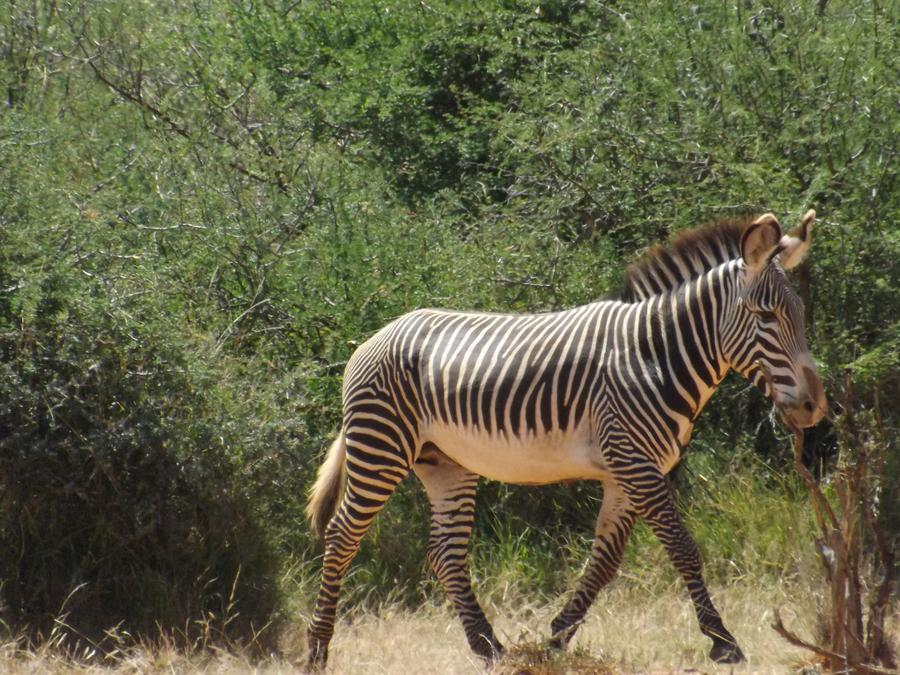zebra_grevys: (338, 285, 670, 472)
